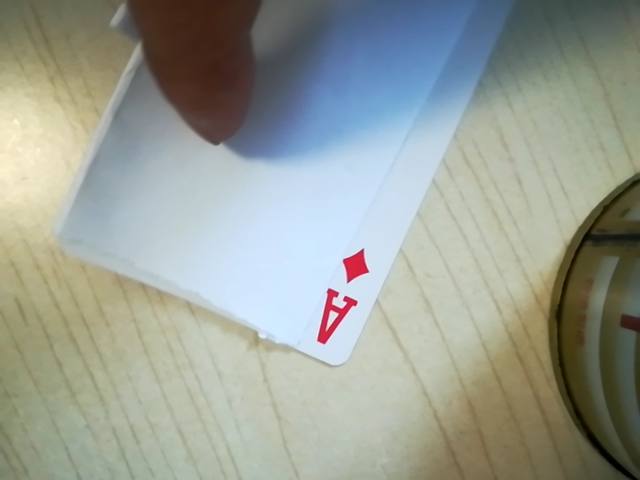fk a: (303, 244, 371, 355)
